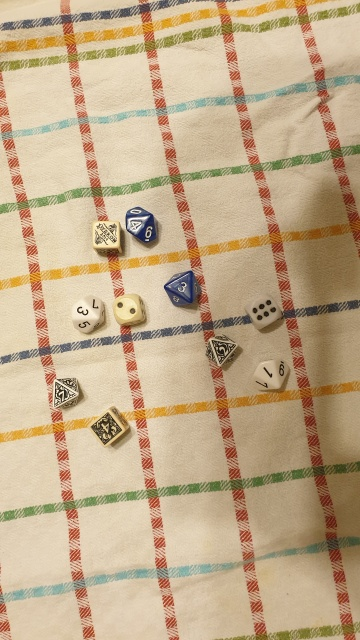d10-1: (245, 354, 291, 398)
d10-3: (161, 266, 204, 314), (66, 293, 108, 340)
d10-4: (122, 200, 163, 249)
d6-2: (110, 290, 149, 329)
d6-6: (243, 292, 286, 332)
d6p-1: (90, 217, 125, 260)
d6p-4: (85, 403, 135, 449)
d8p-2: (200, 329, 242, 371)
d8p-7: (44, 370, 81, 416)
